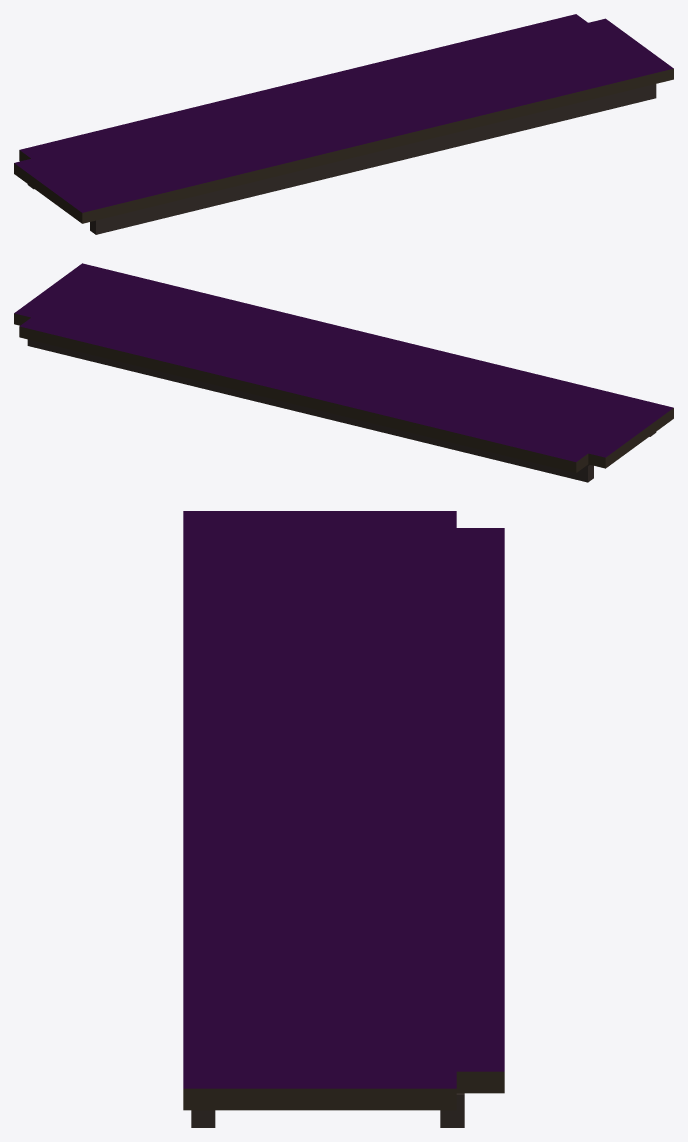
The model's file is monorail_deck.glb.
3 renders of one model, top to bottom at view 1: azimuth 30°, elevation 25°; view 2: azimuth 150°, elevation 25°; view 3: azimuth 270°, elevation 25°, orthographic. The views are drawn at different scales.
Parts seen in each view (by area): view 1: monorail_deck; view 2: monorail_deck; view 3: monorail_deck.
Boxes of the visible parts, left/top/right/bottom form: monorail_deck: left=14, top=14, right=673, bottom=234; monorail_deck: left=14, top=263, right=673, bottom=482; monorail_deck: left=183, top=511, right=504, bottom=1127.
Bounding box in the file's own units: 17 × 0.7492 × 4.
